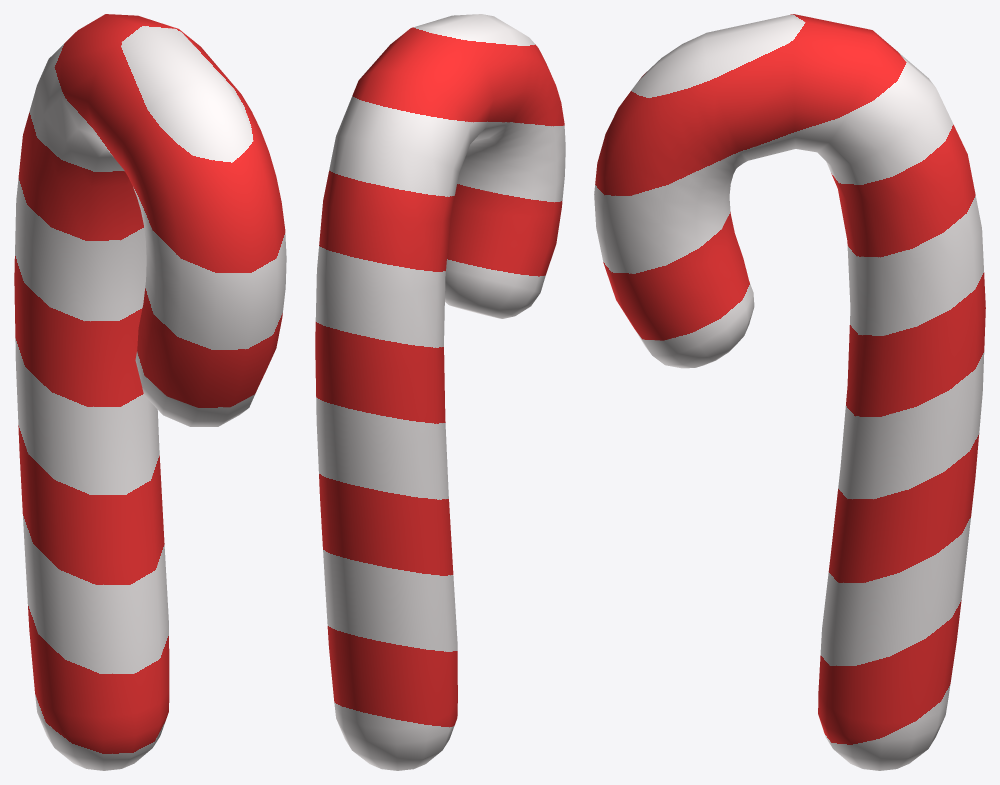
File: cajado_natal.glb
The picture shows the model from 3 angles, left to right: view 1: azimuth 30°, elevation 25°; view 2: azimuth 150°, elevation 25°; view 3: azimuth 270°, elevation 25°; orthographic projection. The views are drawn at different scales.
Parts seen in each view (by area): view 1: BezierCurve; view 2: BezierCurve; view 3: BezierCurve.
Part boxes in pixels (x1,y1,x2,y2): BezierCurve: (14, 14, 286, 770); BezierCurve: (315, 14, 565, 770); BezierCurve: (594, 14, 985, 770).
Size of the model in its own units: 0.5799 by 3.52 by 1.68.
Materials: 1 (1 with a texture image).
